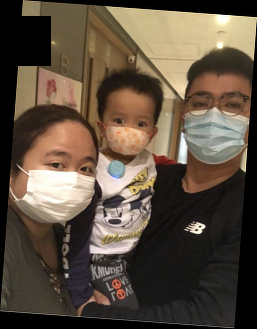with_mask: (13, 147, 95, 227), (181, 87, 249, 167), (103, 109, 154, 158)
